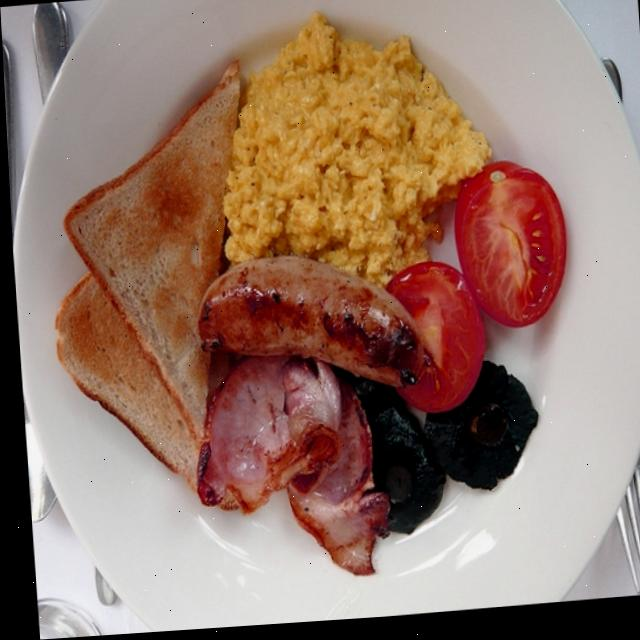鸡蛋料理: (21, 0, 614, 611)
